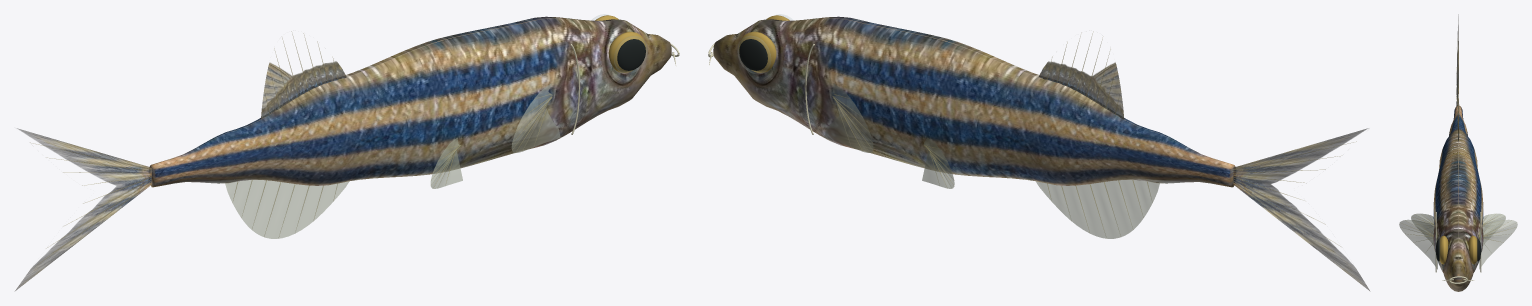
The model's file is zebra-mobile.glb.
3 renders of one model, left to right at view 1: azimuth 30°, elevation 25°; view 2: azimuth 150°, elevation 25°; view 3: azimuth 270°, elevation 25°, orthographic. The views are drawn at different scales.
Parts seen in each view (by area): view 1: skin, tail, anal, dorsal, dorsal-ray, pectoral-left, pelvic-left, eye-pupil--1, eye-iris--1; view 2: skin, tail, anal, dorsal, dorsal-ray, pectoral-left, pelvic-left, eye-pupil--1, eye-iris--1; view 3: skin, pectoral-left, pelvic-left, eye-iris--1, operculum, dorsal-ray, tail, eye-pupil--1.
Boxes of the visible parts, x1,y1,x2,y2 form: skin: (149,16,671,187); tail: (14,128,151,291); anal: (225,180,349,238); dorsal: (261,61,346,119); dorsal-ray: (30,33,552,268); pectoral-left: (511,83,560,152); pelvic-left: (430,137,462,188); eye-pupil--1: (617,39,645,70); eye-iris--1: (595,15,646,72); skin: (713,16,1235,187); tail: (1233,128,1370,291); anal: (1036,180,1159,238); dorsal: (1038,61,1124,119); dorsal-ray: (832,33,1356,269); pectoral-left: (824,83,873,152); pelvic-left: (922,137,954,188); eye-pupil--1: (739,39,767,70); eye-iris--1: (738,15,789,72); skin: (1433,105,1483,291); pectoral-left: (1399,219,1517,269); pelvic-left: (1411,213,1505,245); eye-iris--1: (1439,235,1477,264); operculum: (1435,212,1481,283); dorsal-ray: (1402,67,1514,250); tail: (1456,14,1458,105); eye-pupil--1: (1435,239,1481,261).
Size of the model in its own units: 0.6032 by 0.1794 by 0.1425.
11 materials, 3 textured.
